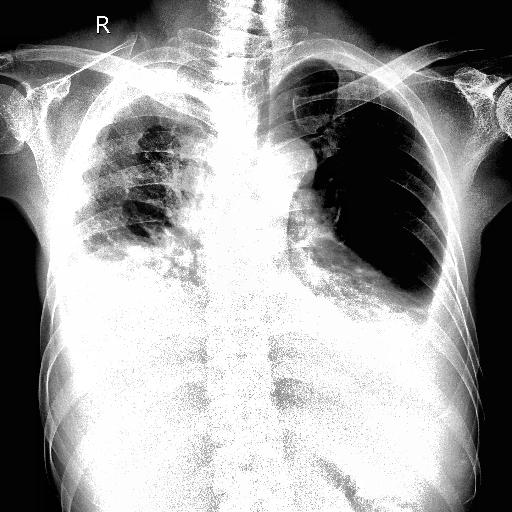0- Aortic enlargement: (256, 138, 318, 202), (270, 138, 314, 186)
10- Pleural effusion: (49, 42, 228, 380), (287, 224, 473, 377), (46, 191, 202, 318), (55, 228, 198, 334), (406, 240, 461, 350), (408, 230, 461, 340)
11- Pleural thickening: (63, 46, 216, 264), (90, 64, 217, 131), (304, 46, 392, 86)
13- Pulmonary fibrosis: (322, 236, 428, 309), (130, 127, 181, 173), (129, 201, 175, 239)
4- Consolidation: (322, 236, 428, 309)
6- Infiltration: (130, 127, 181, 173)
7- Lung Opacity: (58, 99, 211, 302), (73, 87, 213, 286), (280, 214, 420, 338)
